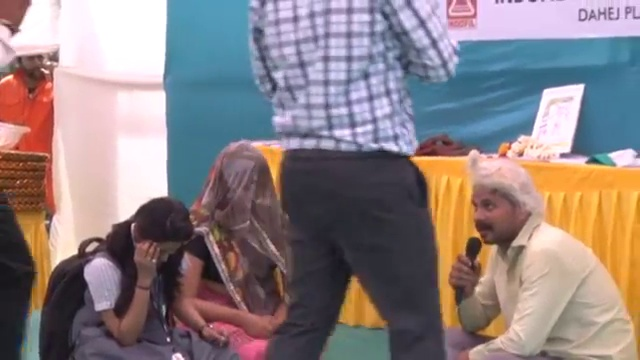helmet: (0, 122, 35, 151)
helmet_off: (462, 161, 542, 250), (205, 142, 265, 210), (123, 201, 193, 256), (11, 52, 54, 86)
person: (247, 1, 463, 360), (446, 161, 639, 360), (44, 199, 240, 359), (171, 143, 291, 359), (0, 47, 57, 156)
